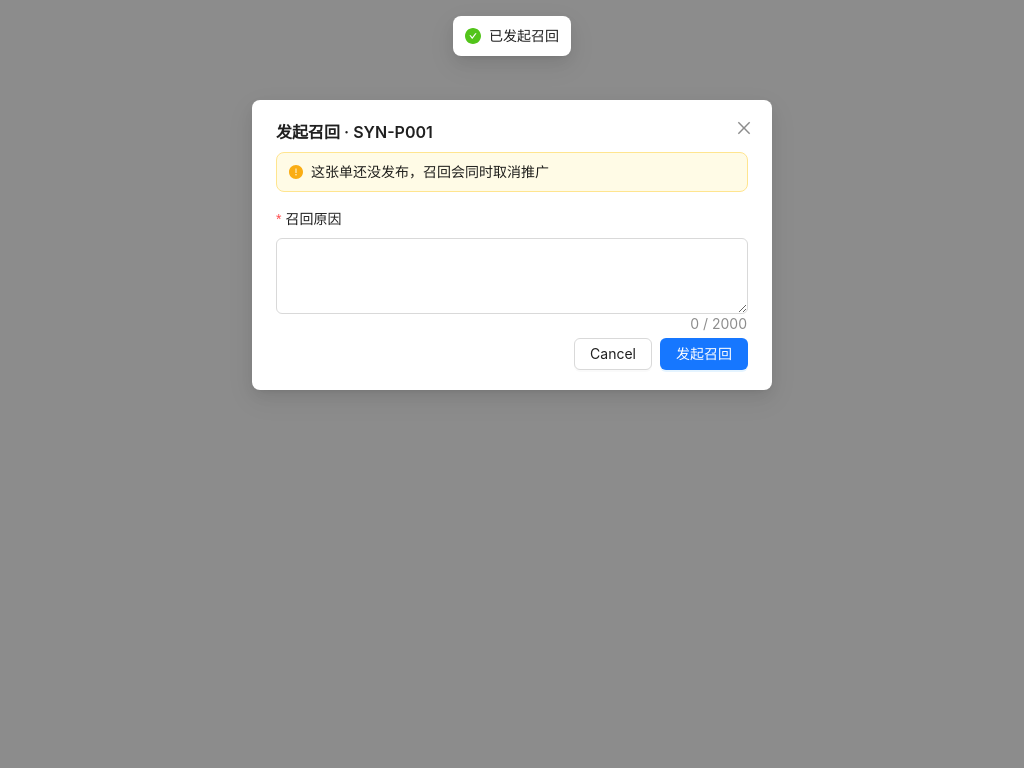
Scenario: 召回发起 › 409后保留原因、刷新能力且不重发
Expected: the text "这张单还没发布，召回会同时取消推广" is shown, [311,163,549,180]
Type "保留的原因" into the text box labelled "召回原因" at (512, 276), box [277,239,747,313]
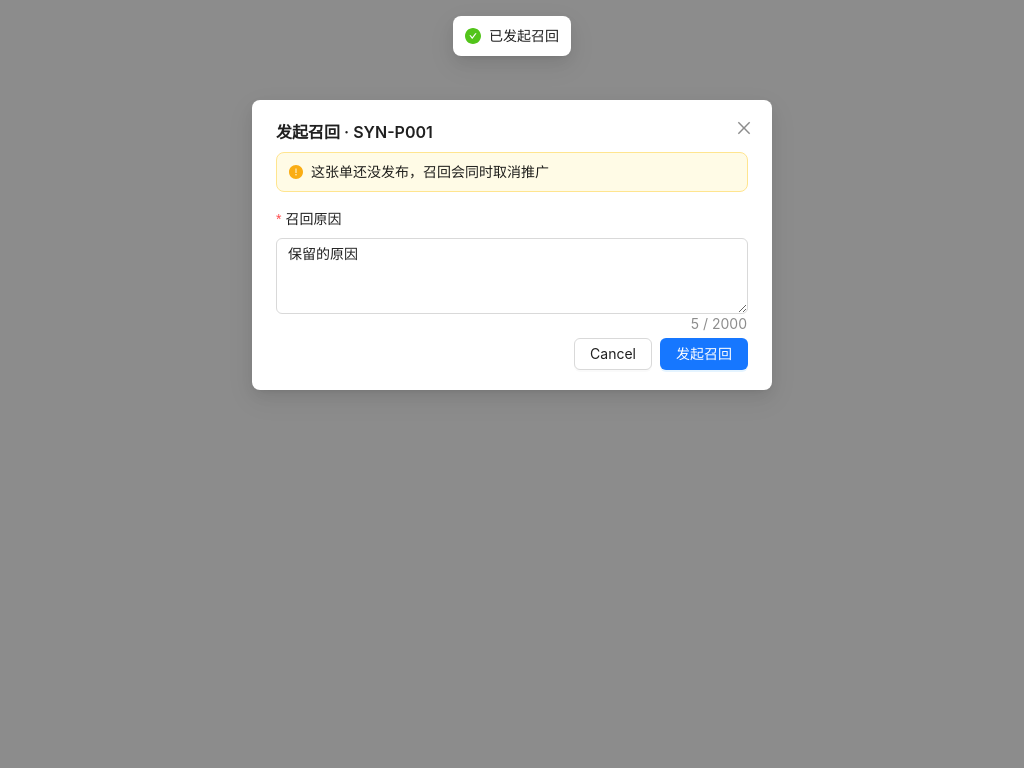
Click the button "发起召回" at (704, 354), box [660,338,748,370]
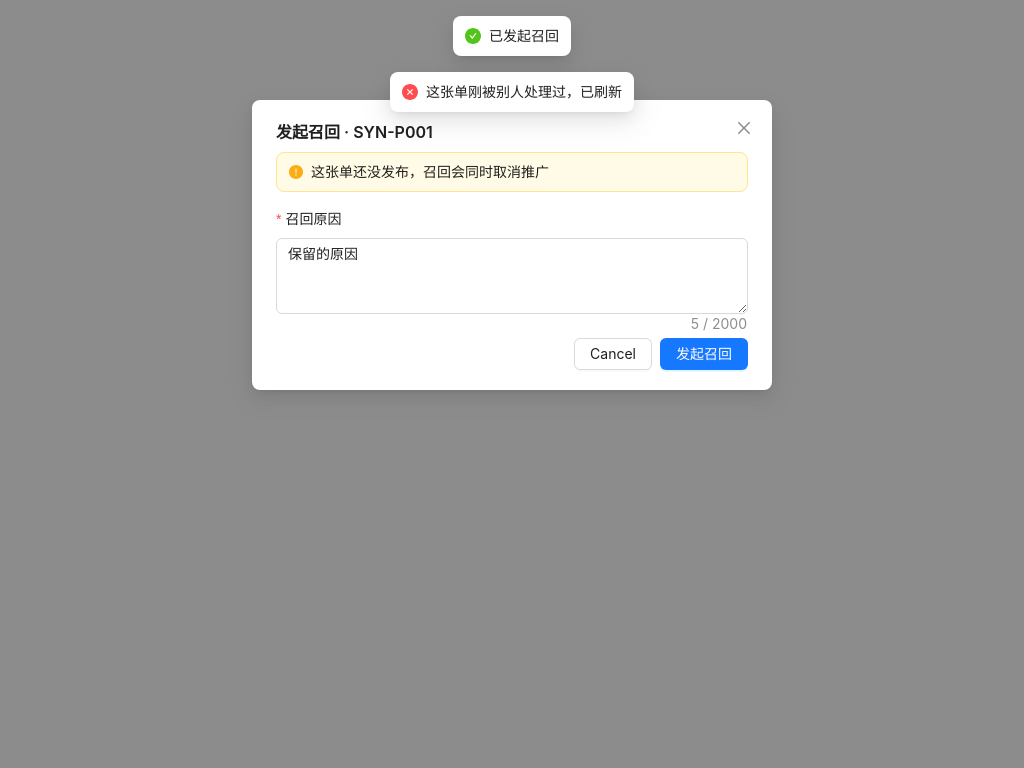
Expected: the text "这张单刚被别人处理过，已刷新" is shown, [426,81,622,103]
